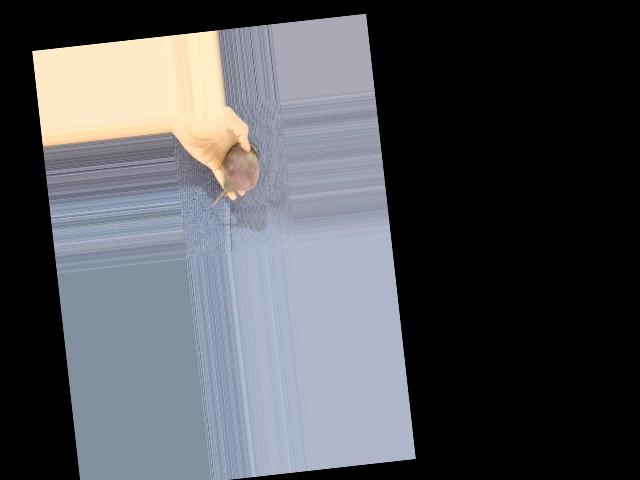beet: (203, 141, 265, 207)
